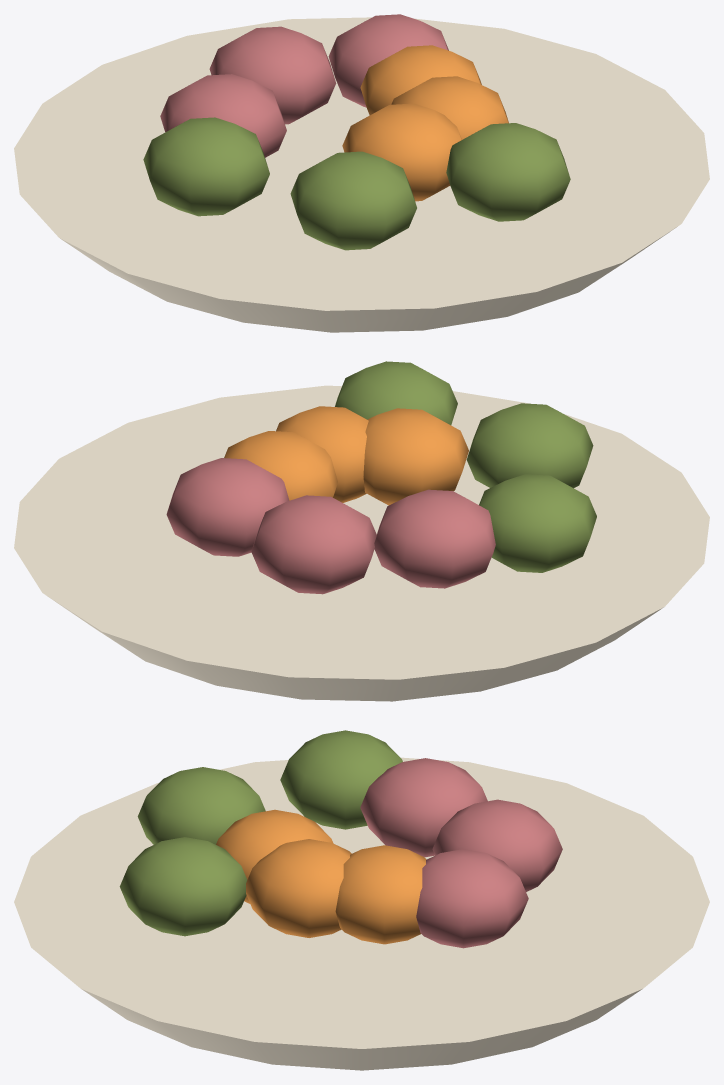
The model's file is roastRoots.glb.
3 views of the same model, one above another, from view 1: azimuth 30°, elevation 25°; view 2: azimuth 150°, elevation 25°; view 3: azimuth 270°, elevation 25° (orthographic).
Size of the model in its own units: 0.96 by 0.198 by 0.96.
